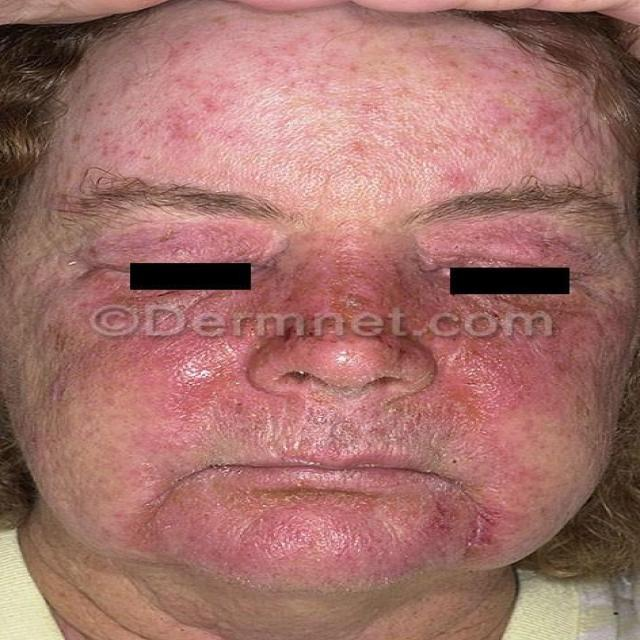Eczema: (76, 32, 593, 574)
